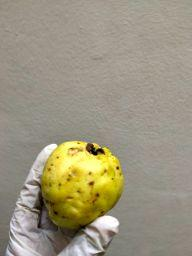guava: (37, 137, 128, 231)
